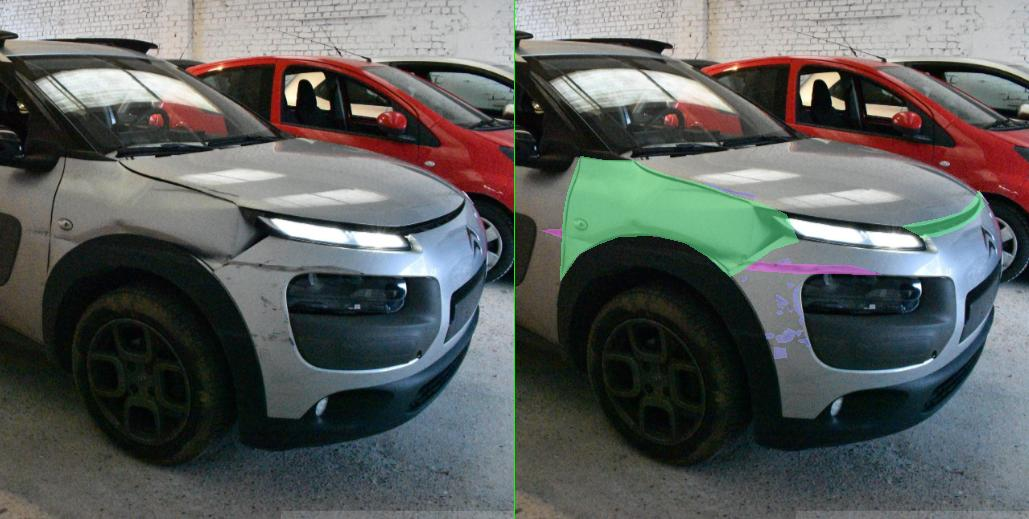Broken part: (90, 156, 567, 280), (775, 190, 939, 237)
Dent: (156, 224, 406, 256), (114, 161, 254, 197), (444, 259, 731, 274), (454, 205, 519, 260), (366, 241, 470, 266), (256, 178, 310, 209), (226, 216, 280, 235), (104, 234, 164, 246), (52, 228, 100, 238)
Scratch: (448, 260, 731, 274), (378, 182, 480, 198), (296, 187, 412, 194), (557, 285, 577, 324), (462, 212, 480, 251), (521, 328, 561, 342), (54, 230, 102, 238), (108, 234, 146, 242), (523, 294, 547, 305), (519, 347, 543, 358), (565, 338, 591, 346), (523, 258, 553, 264), (500, 333, 519, 338), (563, 330, 577, 336), (543, 283, 559, 288), (525, 303, 537, 308), (523, 310, 535, 314), (545, 308, 555, 312), (454, 276, 462, 281)
